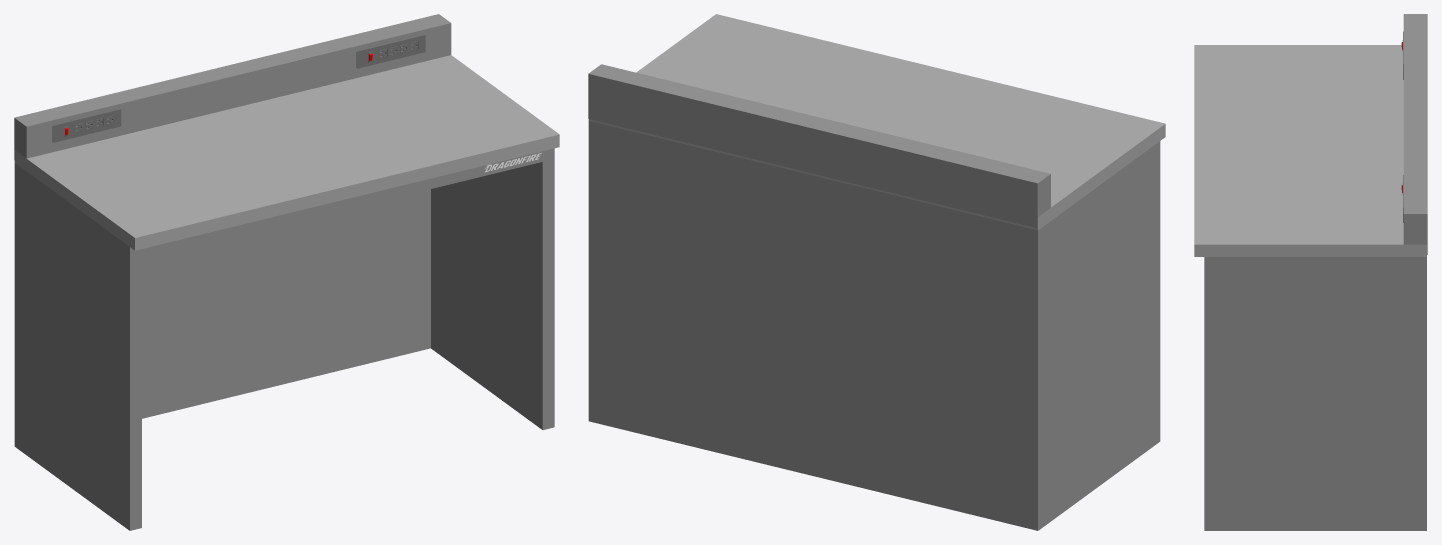
The model's file is work_table.glb.
3 renders of one model, left to right at view 1: azimuth 30°, elevation 25°; view 2: azimuth 150°, elevation 25°; view 3: azimuth 270°, elevation 25°, orthographic. The views are drawn at different scales.
Parts seen in each view (by area): view 1: Part 1, Top, WORKTABLE BACKSPLASH, POWER STRIP.001, POWER STRIP; view 2: Part 1, Top, WORKTABLE BACKSPLASH; view 3: Part 1, Top, WORKTABLE BACKSPLASH.
Part boxes in pixels (x1,y1,x2,y2): Part 1: [14, 148, 554, 530]; Top: [14, 55, 559, 250]; WORKTABLE BACKSPLASH: [14, 14, 451, 159]; POWER STRIP.001: [52, 109, 121, 142]; POWER STRIP: [356, 35, 425, 68]; Part 1: [588, 121, 1160, 530]; Top: [588, 14, 1165, 230]; WORKTABLE BACKSPLASH: [588, 64, 1050, 228]; Part 1: [1204, 257, 1426, 530]; Top: [1194, 45, 1426, 256]; WORKTABLE BACKSPLASH: [1403, 14, 1427, 254].
Bounding box in the file's own units: 1.42 × 1.05 × 0.702.
Materials: 5 (1 with a texture image).
